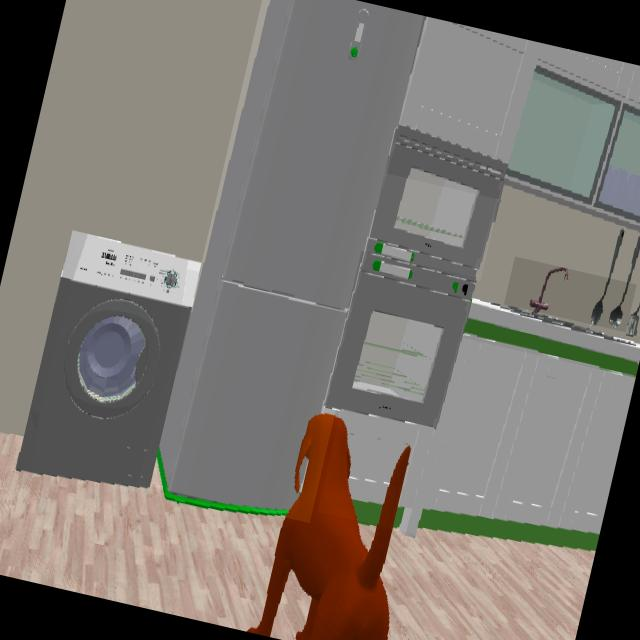cabinet: (340, 336, 635, 536), (400, 17, 640, 232)
countertop: (465, 301, 640, 376)
fridge: (160, 0, 425, 509)
microwave: (370, 127, 506, 279)
oven: (325, 258, 473, 428)
sink: (502, 269, 622, 343)
